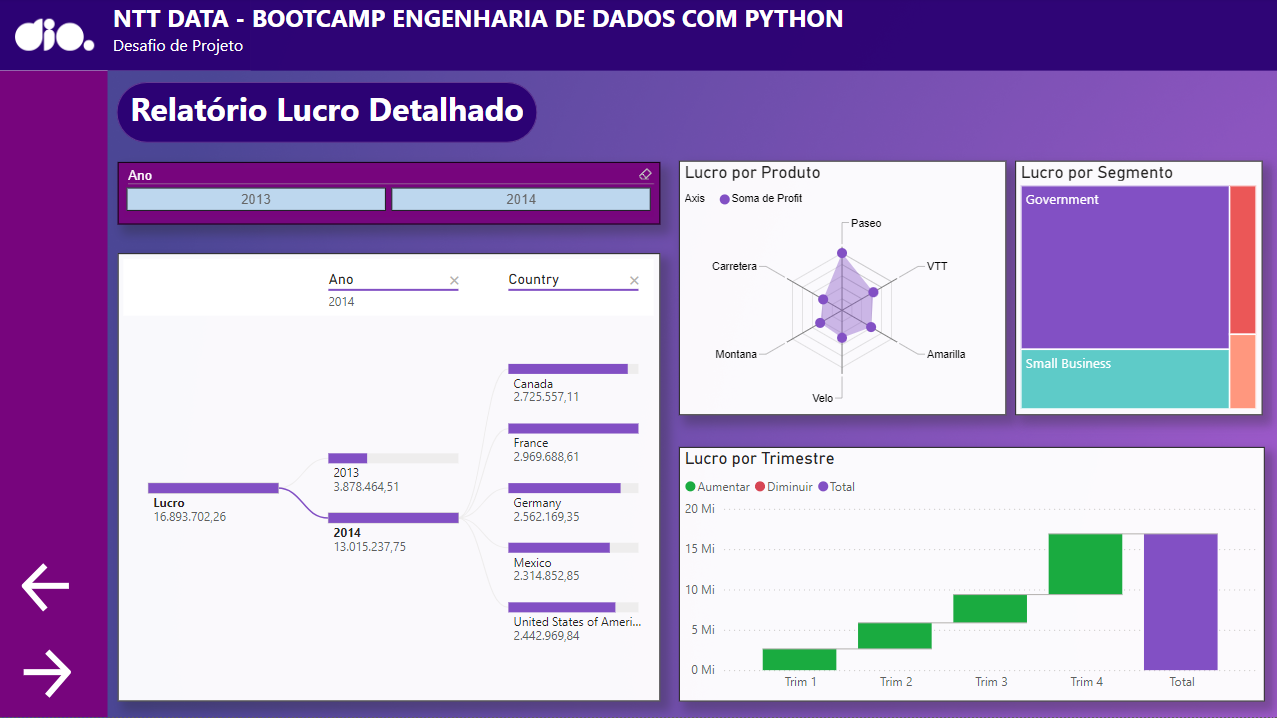

The dashboard page shown, as its layout file describes it:
{"tool":"powerbi","page":{"name":"Página 2","canvas":[1280,720],"ordinal":1},"visuals":[{"type":"shape","box":[0,0,108.8,720.2],"z":0},{"type":"shape","box":[0,0,251.6,73.7],"z":1000},{"type":"image","box":[11,2.4,89.3,70.9],"z":2000},{"type":"shape","title":"FORMA Lucro Detalhado","box":[117.1,85.3,420.8,60.7],"z":2500,"group":"g1"},{"type":"textbox","box":[108.8,0,1171.2,73.8],"z":3000},{"type":"textbox","box":[125.8,85.3,478.6,63.6],"z":3000,"group":"g1"},{"type":"actionButton","title":"Seta","box":[18.1,647,82.1,58.4],"z":4000},{"type":"ChicletSlicer1448559807354","fields":{"Category":["financials.Date.Variation.Hierarquia de datas.Ano"]},"box":[118.6,164.8,542.3,62.2],"z":5000},{"type":"decompositionTreeVisual","fields":{"ExplainBy":["financials.Date.Variation.Hierarquia de datas.Ano","financials.Country"],"Analyze":["Sum(financials.Profit)"]},"box":[118.6,255.9,542.3,448.3],"z":6000},{"type":"waterfallChart","title":"Lucro por Trimestre","fields":{"Category":["financials.Date.Variation.Hierarquia de datas.Trimestre"],"Y":["Sum(financials.Profit)"]},"box":[679.6,449.7,585.6,254.5],"z":7000},{"type":"RadarChart1446119667547","title":"Lucro por Produto","fields":{"Y":["Sum(financials.Profit)"],"Category":["financials.Product"]},"box":[679.6,163.4,326.8,254.5],"z":8000},{"type":"treemap","title":"Lucro por Segmento","fields":{"Values":["Sum(financials.Profit)"],"Group":["financials.Segment"]},"box":[1016.6,163.4,247.3,254.5],"z":9000},{"type":"group","id":"g1","title":"Grupo 1","box":[117.1,85.3,487.3,63.6],"z":10000},{"type":"actionButton","title":"Seta","box":[18.9,561.2,83.1,58.3],"z":11000}]}

Visuals, with their boxes in screenshot pixels (x1, y1, x2, y2), scaled from the page's 1280x720 canvas onto the 1277x718 screenshot:
shape: 0, 0, 109, 717
shape: 0, 0, 251, 73
image: 11, 2, 100, 73
"FORMA Lucro Detalhado" shape: 117, 85, 537, 146
textbox: 109, 0, 1276, 74
textbox: 126, 85, 603, 148
"Seta" actionButton: 18, 645, 100, 703
ChicletSlicer1448559807354 - financials.Date.Variation.Hierarquia de datas.Ano: 118, 164, 659, 226
decompositionTreeVisual - financials.Date.Variation.Hierarquia de datas.Ano x financials.Country: 118, 255, 659, 702
"Lucro por Trimestre" waterfallChart: 678, 448, 1262, 702
"Lucro por Produto" RadarChart1446119667547: 678, 163, 1004, 417
"Lucro por Segmento" treemap: 1014, 163, 1261, 417
"Grupo 1" group: 117, 85, 603, 148
"Seta" actionButton: 19, 560, 102, 618
